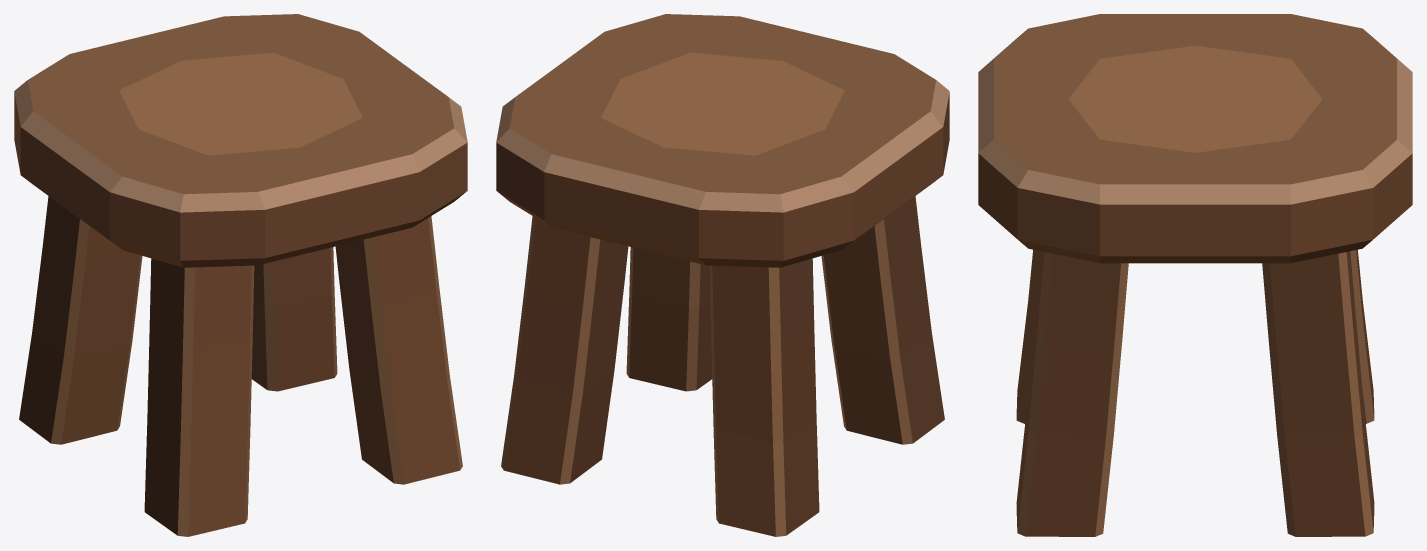
File: stool.fbx
3 views of the same model, side by side, from view 1: azimuth 30°, elevation 25°; view 2: azimuth 150°, elevation 25°; view 3: azimuth 270°, elevation 25° (orthographic). The views are drawn at different scales.
Visible parts, largest first — view 1: stool; view 2: stool; view 3: stool.
Boxes of the visible parts, x1,y1,x2,y2 form: stool: (14,14,467,536); stool: (496,14,949,536); stool: (978,14,1412,536).
Size of the model in its own units: 50 by 46.07 by 50.
